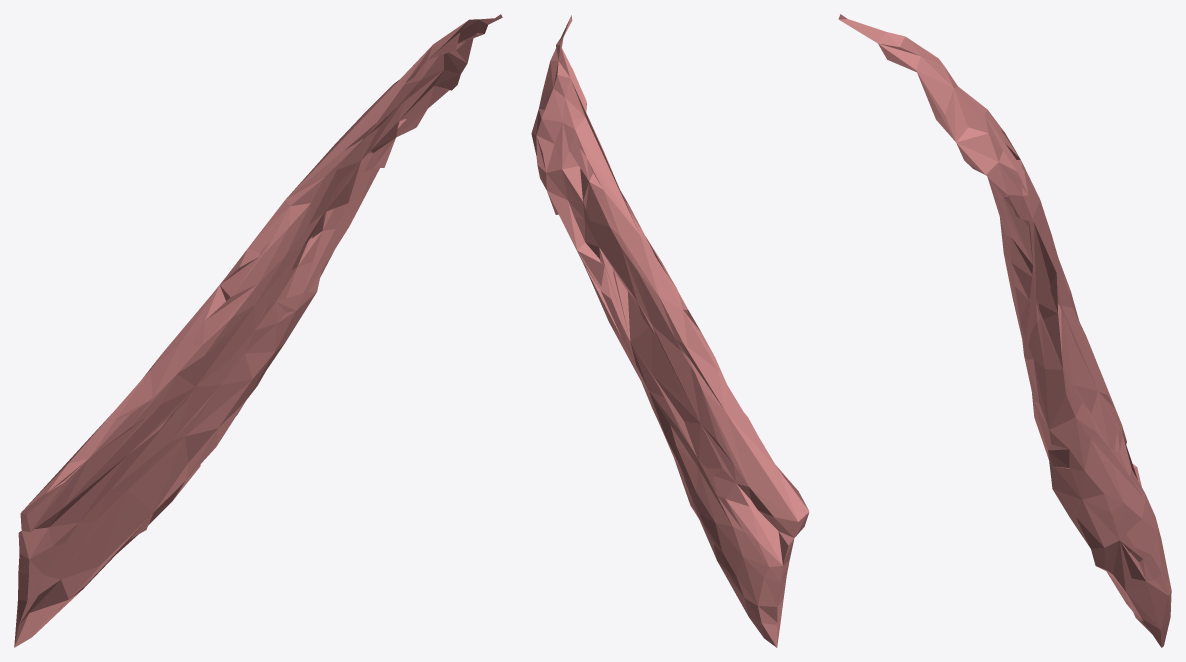
Rendered from Rhomboid_minor_muscle.r.glb.
The picture shows the model from 3 angles, left to right: view 1: azimuth 30°, elevation 25°; view 2: azimuth 150°, elevation 25°; view 3: azimuth 270°, elevation 25°; orthographic projection. The views are drawn at different scales.
Parts seen in each view (by area): view 1: Rhomboid_minor_muscle.r; view 2: Rhomboid_minor_muscle.r; view 3: Rhomboid_minor_muscle.r.
Part boxes in pixels (box(x1,y1,x2,y2)): Rhomboid_minor_muscle.r: box(14, 14, 502, 647); Rhomboid_minor_muscle.r: box(531, 15, 809, 647); Rhomboid_minor_muscle.r: box(838, 14, 1171, 647).
Bounding box in the file's own units: 0.0645 × 0.0993 × 0.0336.
